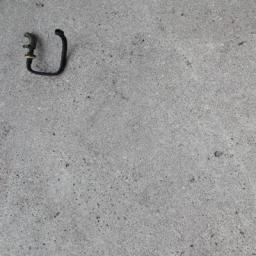FOD: (23, 29, 72, 79)
